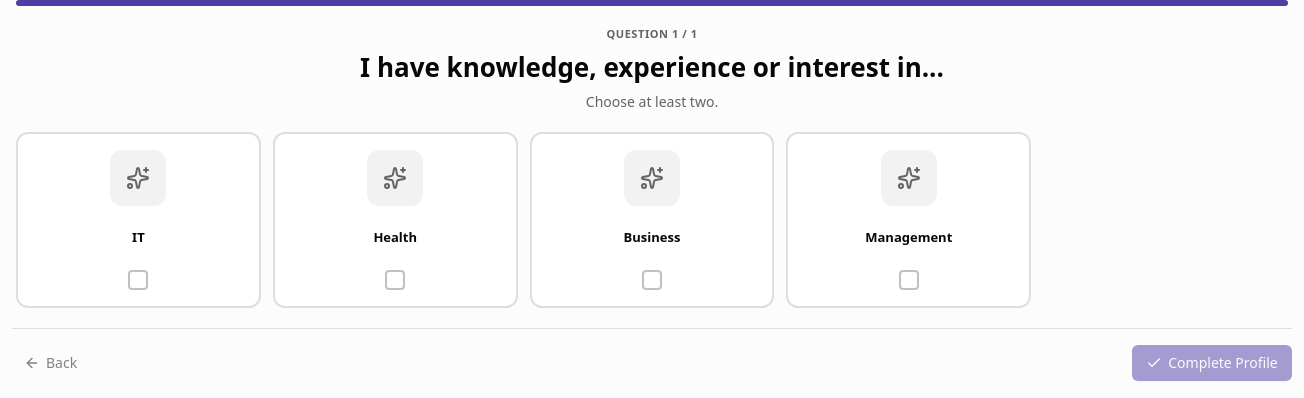
it: the next button gates on the question's own rules › stays disabled below the minimum, and says why once you try
This screenshot has width=1304, height=398.
Step 1. Click the checkbox labelled "IT" → (138, 220), box [16,132,261,308]
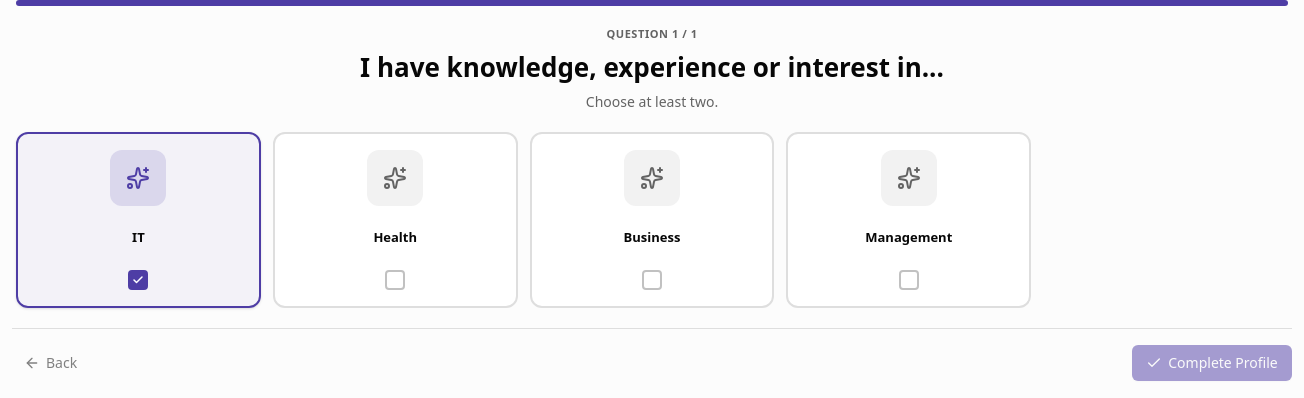
Expected: the button "Complete Profile" is disabled, [1132,345,1292,381]
Step 2. Click the checkbox labelled "Health" → (395, 220), box [273,132,518,308]
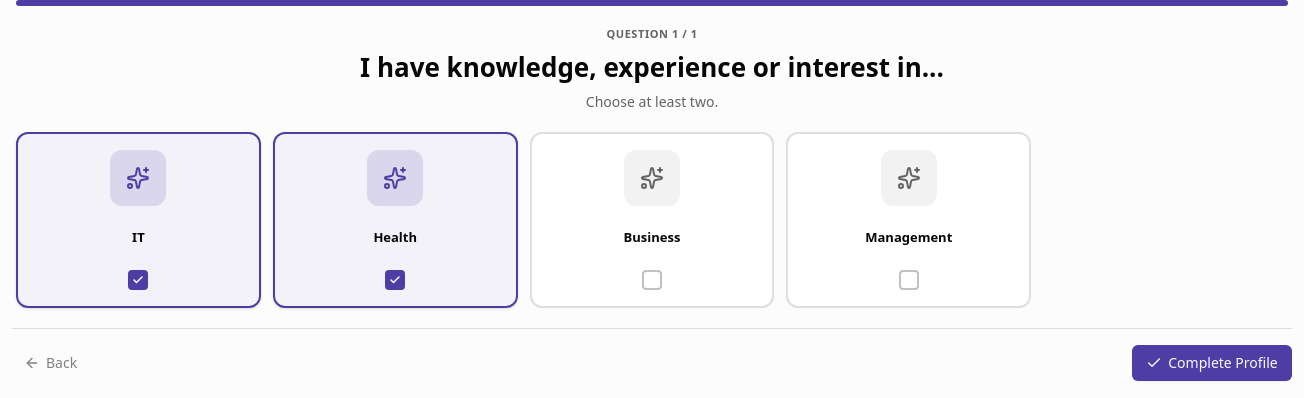
Now the button "Complete Profile" is enabled, box [1132,345,1292,381]
